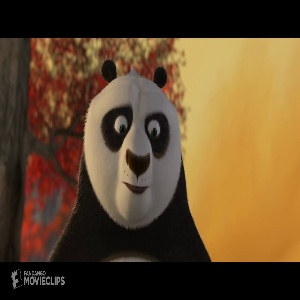po: (45, 56, 216, 262)
